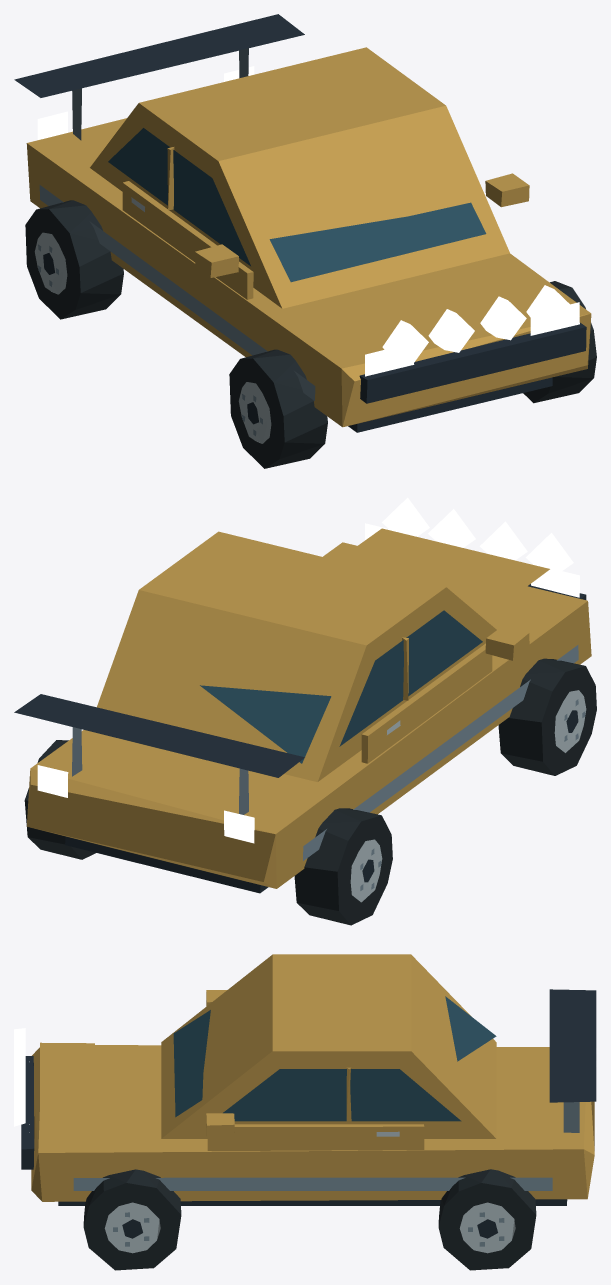
File: road-rally.lod2.glb
3 renders of one model, top to bottom at view 1: azimuth 30°, elevation 25°; view 2: azimuth 150°, elevation 25°; view 3: azimuth 270°, elevation 25°, orthographic. The views are drawn at different scales.
Visible parts, largest first — view 1: road-rally__body, road-rally__door_-1, road-rally__wheel_steer_0_l, road-rally__wheel_steer_1_l, road-rally__wheel_steer_0_r; view 2: road-rally__body, road-rally__door_-1, road-rally__wheel_steer_0_l, road-rally__wheel_steer_1_l, road-rally__wheel_steer_1_r; view 3: road-rally__body, road-rally__door_1, road-rally__wheel_steer_1_r, road-rally__wheel_steer_0_r.
Part boxes in pixels (x1=…): road-rally__body: x1=14, y1=14, x2=591, y2=432; road-rally__door_-1: x1=108, y1=128, x2=253, y2=299; road-rally__wheel_steer_0_l: x1=229, y1=349, x2=327, y2=468; road-rally__wheel_steer_1_l: x1=25, y1=200, x2=123, y2=319; road-rally__wheel_steer_0_r: x1=523, y1=281, x2=596, y2=403; road-rally__body: x1=14, y1=497, x2=591, y2=893; road-rally__door_-1: x1=339, y1=610, x2=492, y2=763; road-rally__wheel_steer_0_l: x1=498, y1=658, x2=596, y2=775; road-rally__wheel_steer_1_l: x1=294, y1=808, x2=392, y2=925; road-rally__wheel_steer_1_r: x1=24, y1=740, x2=95, y2=859; road-rally__body: x1=14, y1=954, x2=596, y2=1205; road-rally__door_1: x1=207, y1=1067, x2=461, y2=1150; road-rally__wheel_steer_1_r: x1=438, y1=1169, x2=536, y2=1270; road-rally__wheel_steer_0_r: x1=83, y1=1169, x2=181, y2=1270.
Size of the model in its own units: 2.24 by 1.55 by 4.04.
